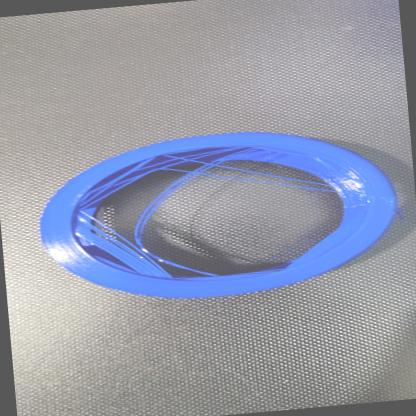fail: (63, 146, 279, 288)
